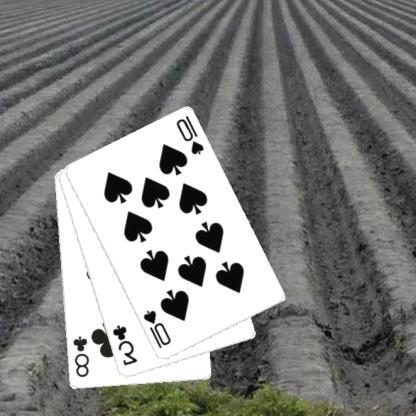10S: (142, 307, 174, 351), (175, 113, 207, 157)
3C: (111, 323, 140, 368)
8C: (72, 334, 92, 379)
